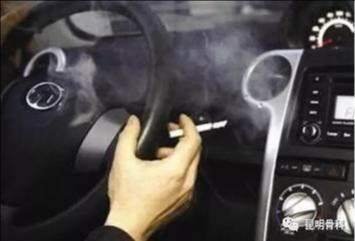Cigarette: (168, 120, 227, 137)
Smoke: (72, 21, 290, 126)
